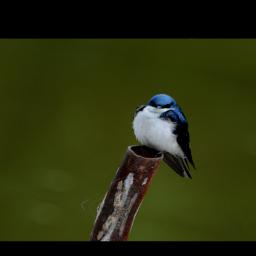Swallow: (114, 88, 223, 181)
